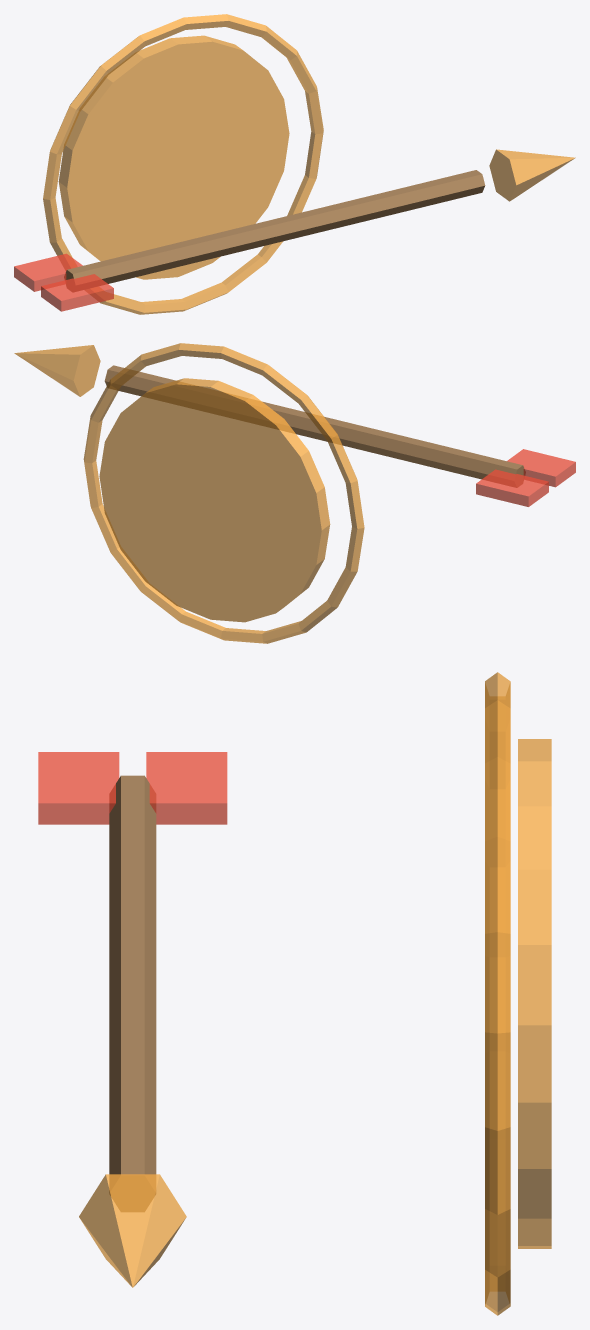
Rendered from 07_fire_rocket_projectile.glb.
3 views of the same model, one above another, from view 1: azimuth 30°, elevation 25°; view 2: azimuth 150°, elevation 25°; view 3: azimuth 270°, elevation 25° (orthographic). The views are drawn at different scales.
Parts seen in each view (by area): view 1: base_disc, base_ring, shaft, tip, fletch_a, fletch_b; view 2: base_disc, base_ring, shaft, tip, fletch_b, fletch_a; view 3: shaft, base_disc, base_ring, tip, fletch_b, fletch_a.
Part boxes in pixels (x1,y1,x2,y2): base_disc: [58, 35, 289, 279]; base_ring: [43, 14, 323, 314]; shaft: [64, 170, 485, 291]; tip: [489, 149, 575, 201]; fletch_a: [41, 274, 113, 311]; fletch_b: [14, 253, 82, 291]; base_disc: [99, 378, 330, 622]; base_ring: [83, 343, 364, 643]; shaft: [104, 365, 525, 487]; tip: [14, 345, 100, 396]; fletch_b: [476, 469, 548, 506]; fletch_a: [507, 449, 575, 487]; shaft: [109, 775, 156, 1211]; base_disc: [518, 739, 551, 1248]; base_ring: [485, 672, 510, 1315]; tip: [79, 1174, 186, 1287]; fletch_b: [146, 752, 227, 824]; fletch_a: [38, 752, 119, 824].
Size of the model in its own units: 1.84 by 0.96 by 0.76.
